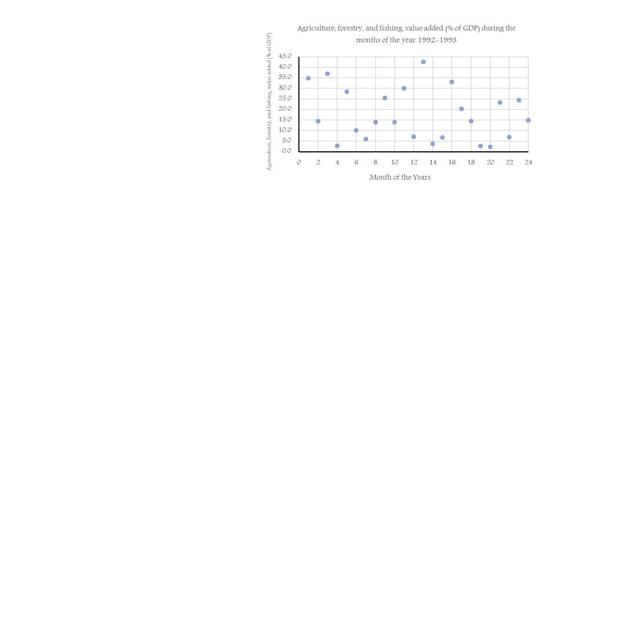Graph: (259, 18, 537, 185)
